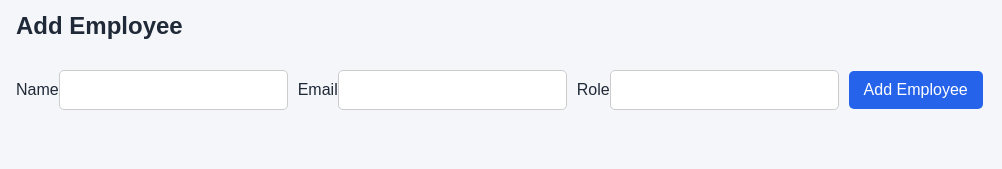
Test: EmployeeForm Component › shows error for invalid email
Type "Chandra" into the field labelled "Name" at [173, 90], box [59, 70, 288, 110]
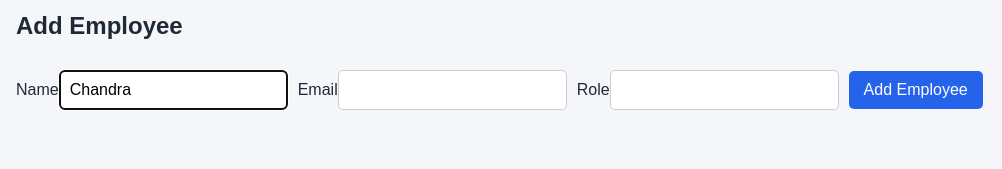
Type "invalidemail" into the field labelled "Email" at [452, 90], box [338, 70, 567, 110]
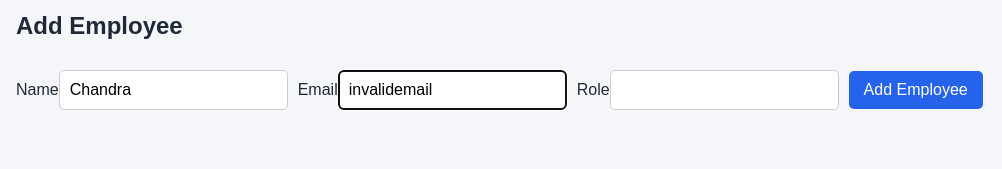
Type "Developer" into the field labelled "Role" at [724, 90], box [610, 70, 839, 110]
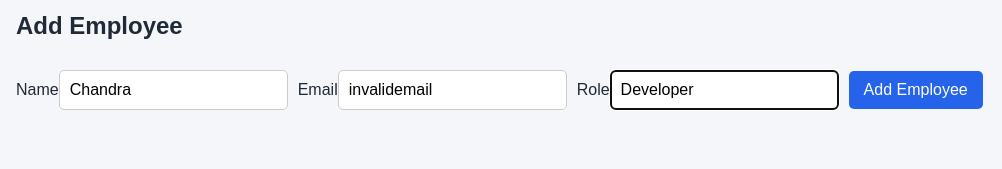
Click the button "Add Employee" at [916, 90], box [849, 71, 983, 109]
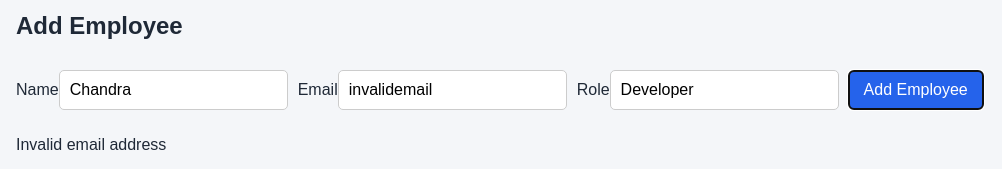
Now the message reads "Invalid email address", box [16, 136, 166, 153]
